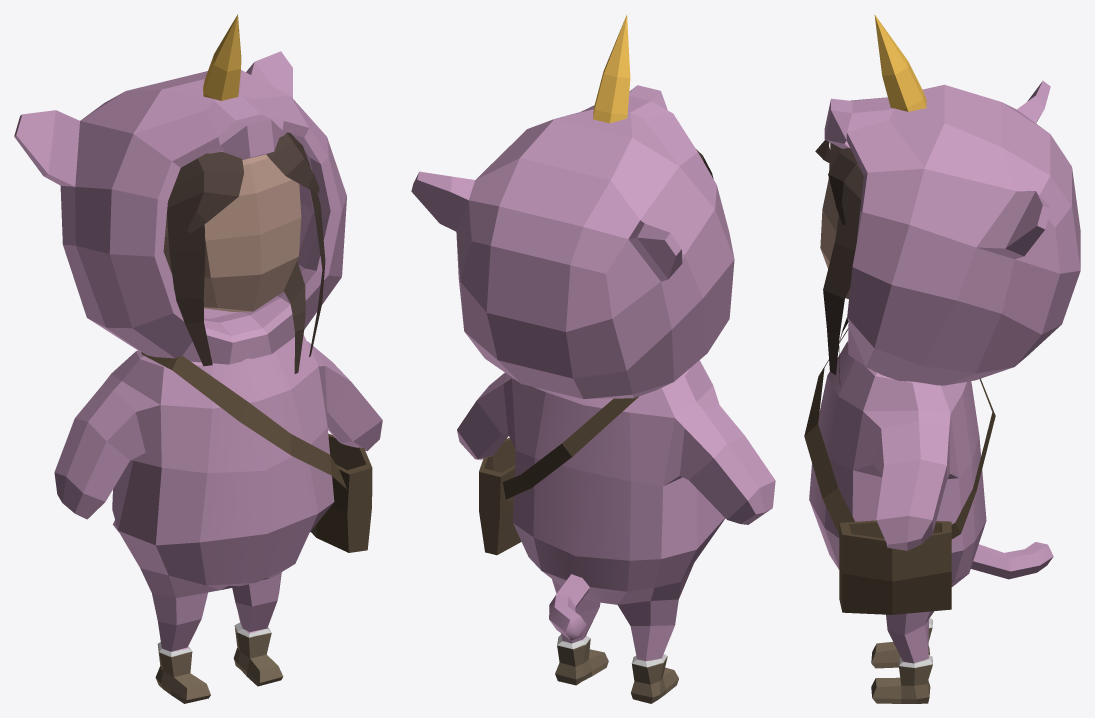
File: girl.fbx
The picture shows the model from 3 angles, left to right: view 1: azimuth 30°, elevation 25°; view 2: azimuth 150°, elevation 25°; view 3: azimuth 270°, elevation 25°; orthographic projection. The views are drawn at different scales.
Visible parts, largest first — view 1: Girl2; view 2: Girl2; view 3: Girl2.
Part boxes in pixels (left/top/right/bottom): Girl2: left=14, top=14, right=382, bottom=703; Girl2: left=411, top=15, right=775, bottom=703; Girl2: left=804, top=14, right=1080, bottom=703.
Bounding box in the file's own units: 3.98 × 8.32 × 3.12.
Materials: 1 (1 with a texture image).
